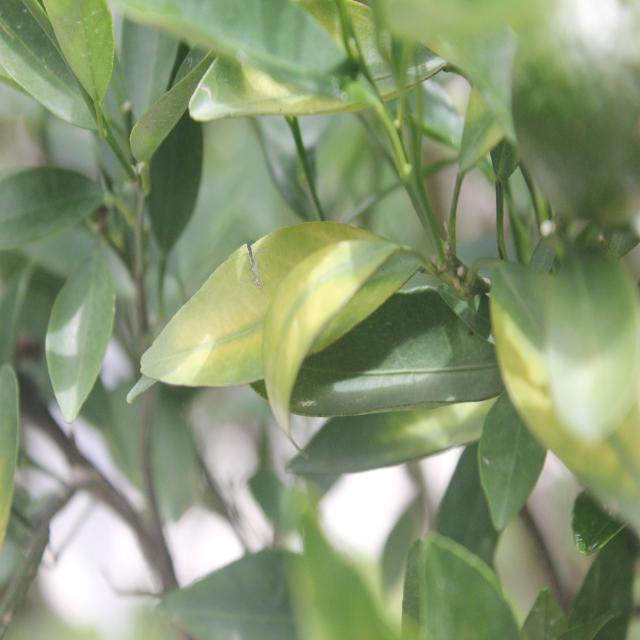greening: (254, 237, 396, 408), (142, 244, 274, 389)
